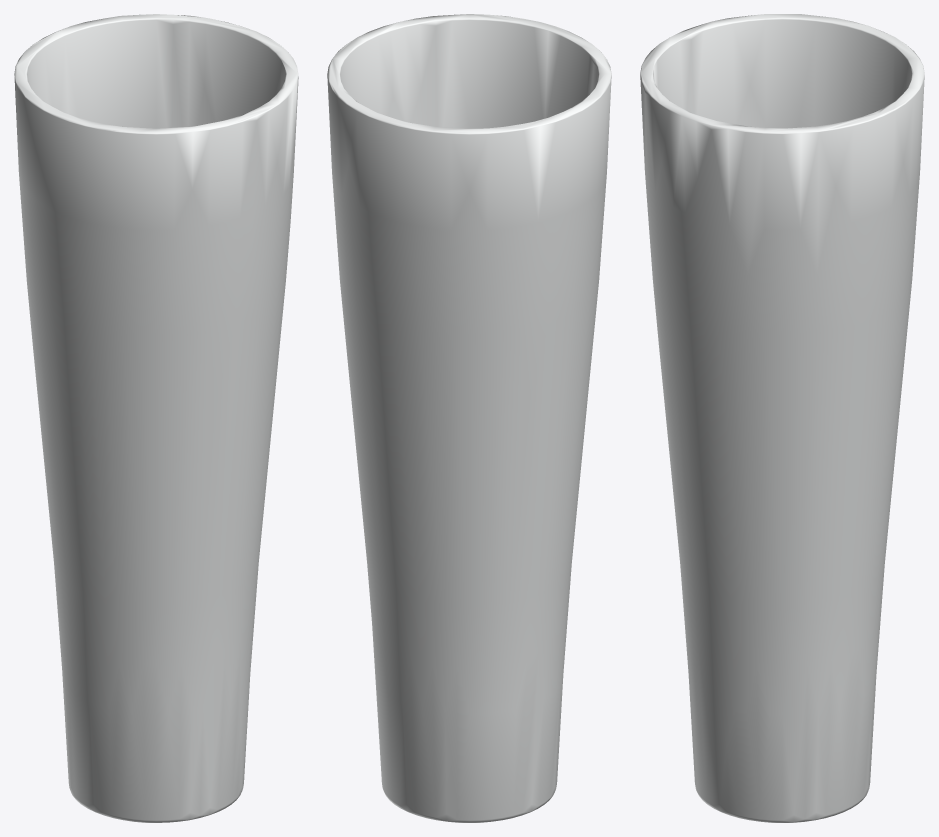
Rendered from vase_small.glb.
3 renders of one model, left to right at view 1: azimuth 30°, elevation 25°; view 2: azimuth 150°, elevation 25°; view 3: azimuth 270°, elevation 25°, orthographic.
Visible parts, largest first — view 1: Vase_0001; view 2: Vase_0001; view 3: Vase_0001.
Part boxes in pixels (box(x1,y1,x2,y2)): Vase_0001: box(14, 14, 298, 822); Vase_0001: box(327, 14, 611, 822); Vase_0001: box(640, 14, 924, 822).
Size of the model in its own units: 0.1163 by 0.322 by 0.1163.
Materials: 1 (1 with a texture image).
